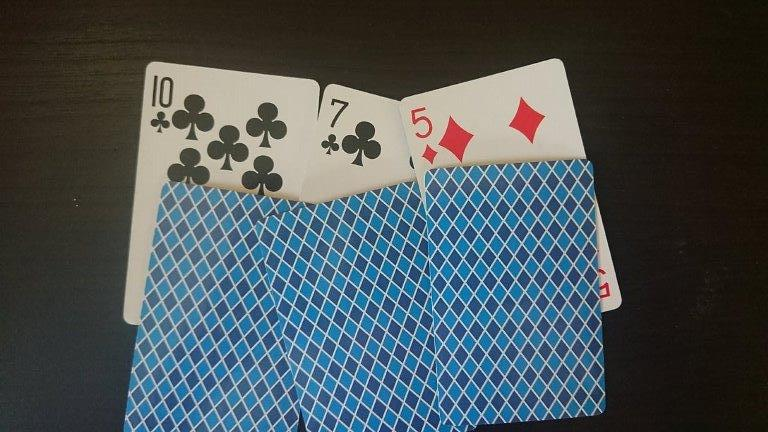10C: (142, 68, 179, 138)
5D: (406, 99, 443, 167)
7C: (317, 94, 354, 158)
BACK: (424, 160, 606, 426), (255, 179, 417, 432), (123, 181, 255, 432)
